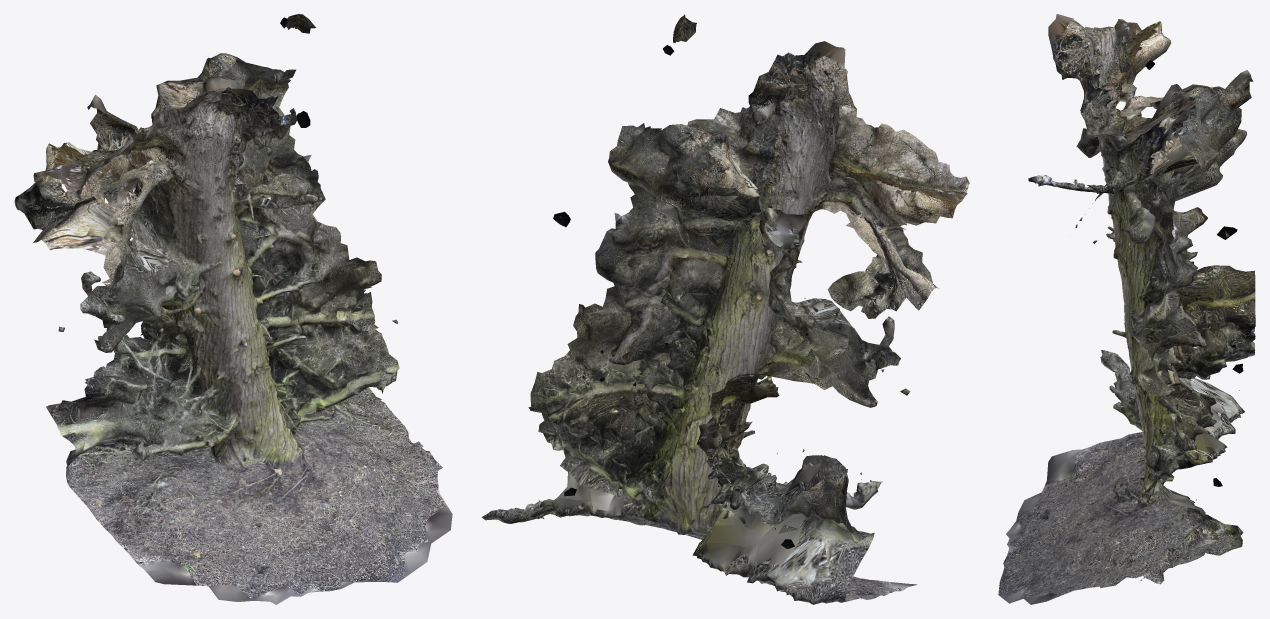
The model's file is treeScan_lowPoly.glb.
The picture shows the model from 3 angles, left to right: view 1: azimuth 30°, elevation 25°; view 2: azimuth 150°, elevation 25°; view 3: azimuth 270°, elevation 25°; orthographic projection. The views are drawn at different scales.
Visible parts, largest first — view 1: treeScan_lowPoly; view 2: treeScan_lowPoly; view 3: treeScan_lowPoly.
Boxes of the visible parts, x1,y1,x2,y2 form: treeScan_lowPoly: (14, 14, 452, 604); treeScan_lowPoly: (481, 14, 969, 604); treeScan_lowPoly: (998, 14, 1255, 604).
Size of the model in its own units: 26.18 by 34.12 by 14.95.
Materials: 1 (1 with a texture image).
